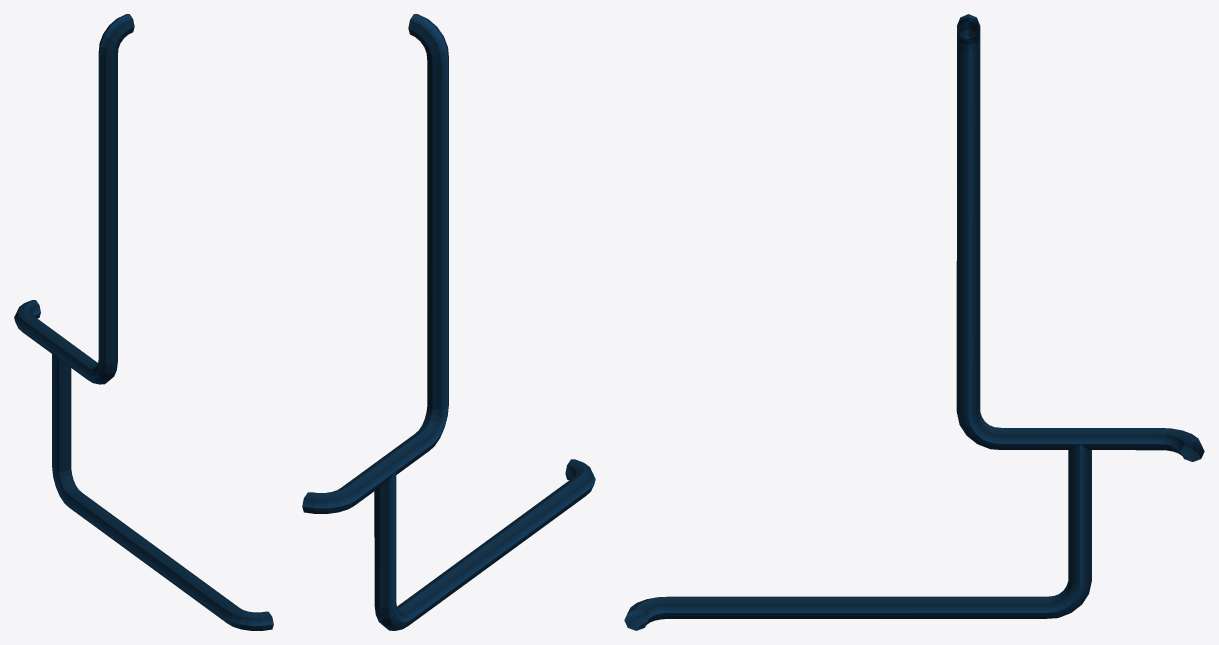
File: PipesNight.fbx
The picture shows the model from 3 angles, left to right: view 1: azimuth 30°, elevation 25°; view 2: azimuth 150°, elevation 25°; view 3: azimuth 270°, elevation 25°; orthographic projection. The views are drawn at different scales.
Visible parts, largest first — view 1: PipesNight; view 2: PipesNight; view 3: PipesNight.
Part boxes in pixels (<box>): PipesNight: <box>14,14,273,630</box>; PipesNight: <box>302,14,595,630</box>; PipesNight: <box>624,14,1204,630</box>.
Size of the model in its own units: 41.64 by 677 by 580.
